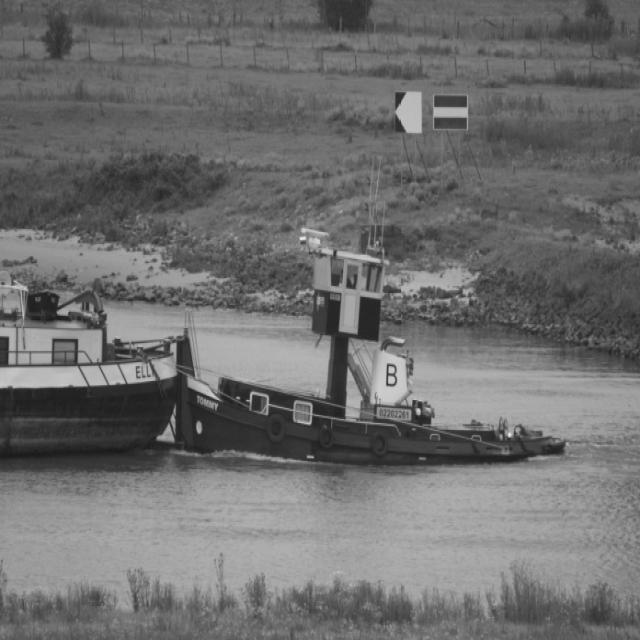tugboat: (171, 232, 573, 485)
